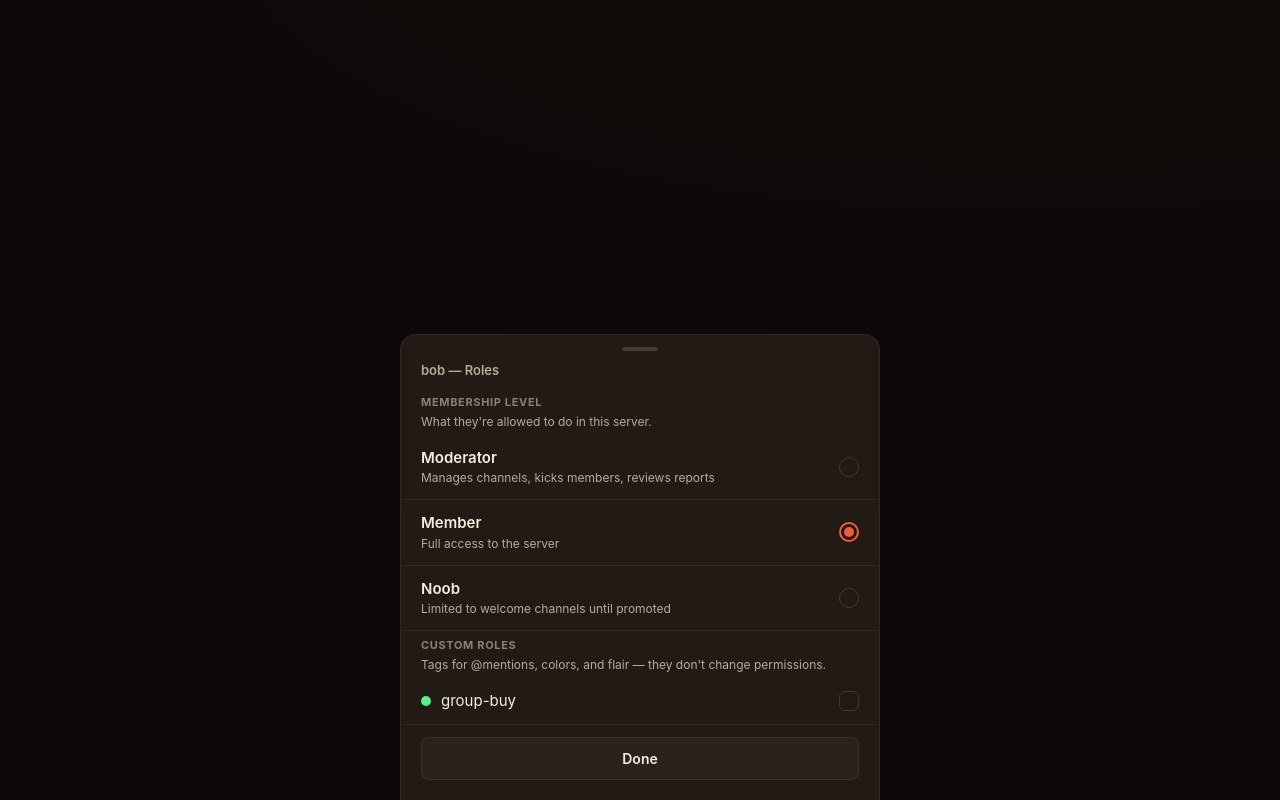
Scenario: MemberRolesSheet › reverts the membership level and surfaces the error when assignRole fails
The image size is (1280, 800).
Click the button with test id "legacy-role-moderator". click: coordinates (640, 467)
box: x1=401 y1=434 x2=879 y2=500
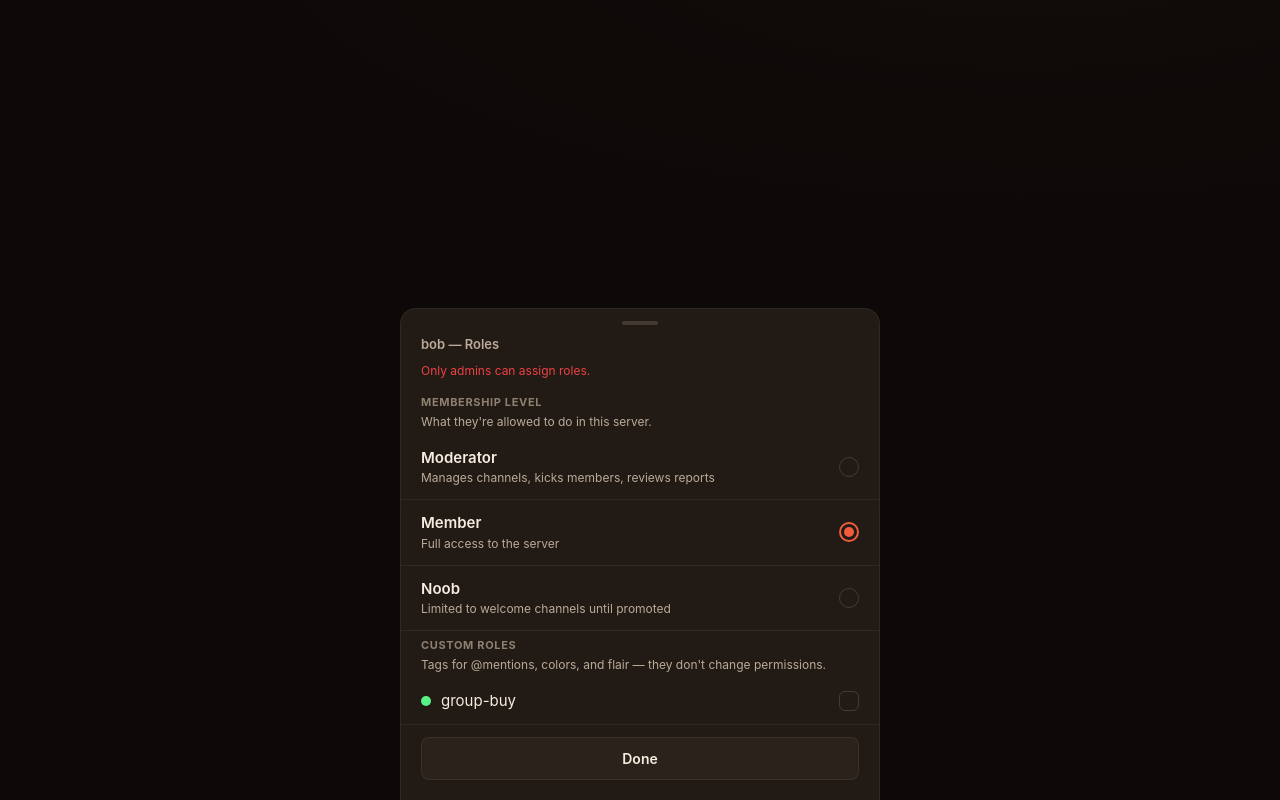
Result: the text "Only admins can assign roles." is shown at x1=421 y1=363 x2=590 y2=378
